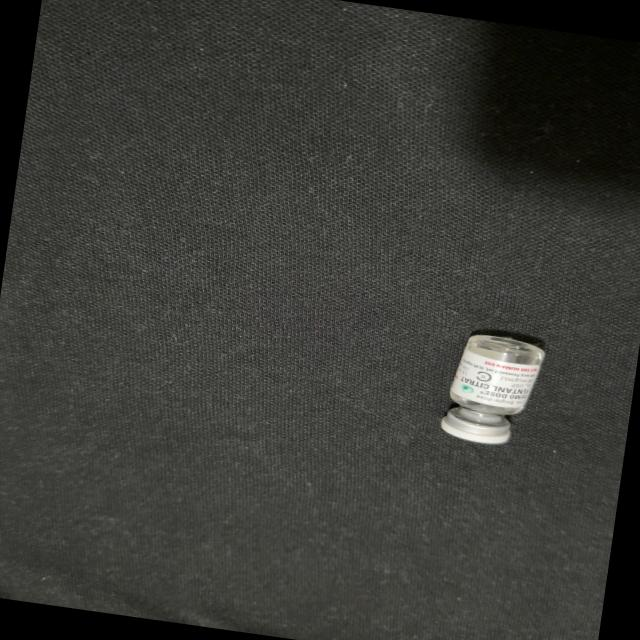fentanl_citrat: (440, 328, 546, 448)
